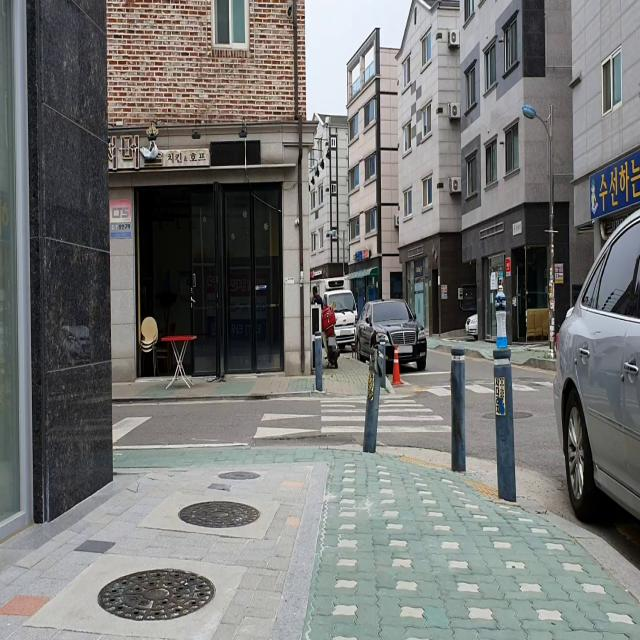횡단보도: (320, 398, 452, 434), (417, 376, 554, 398)
